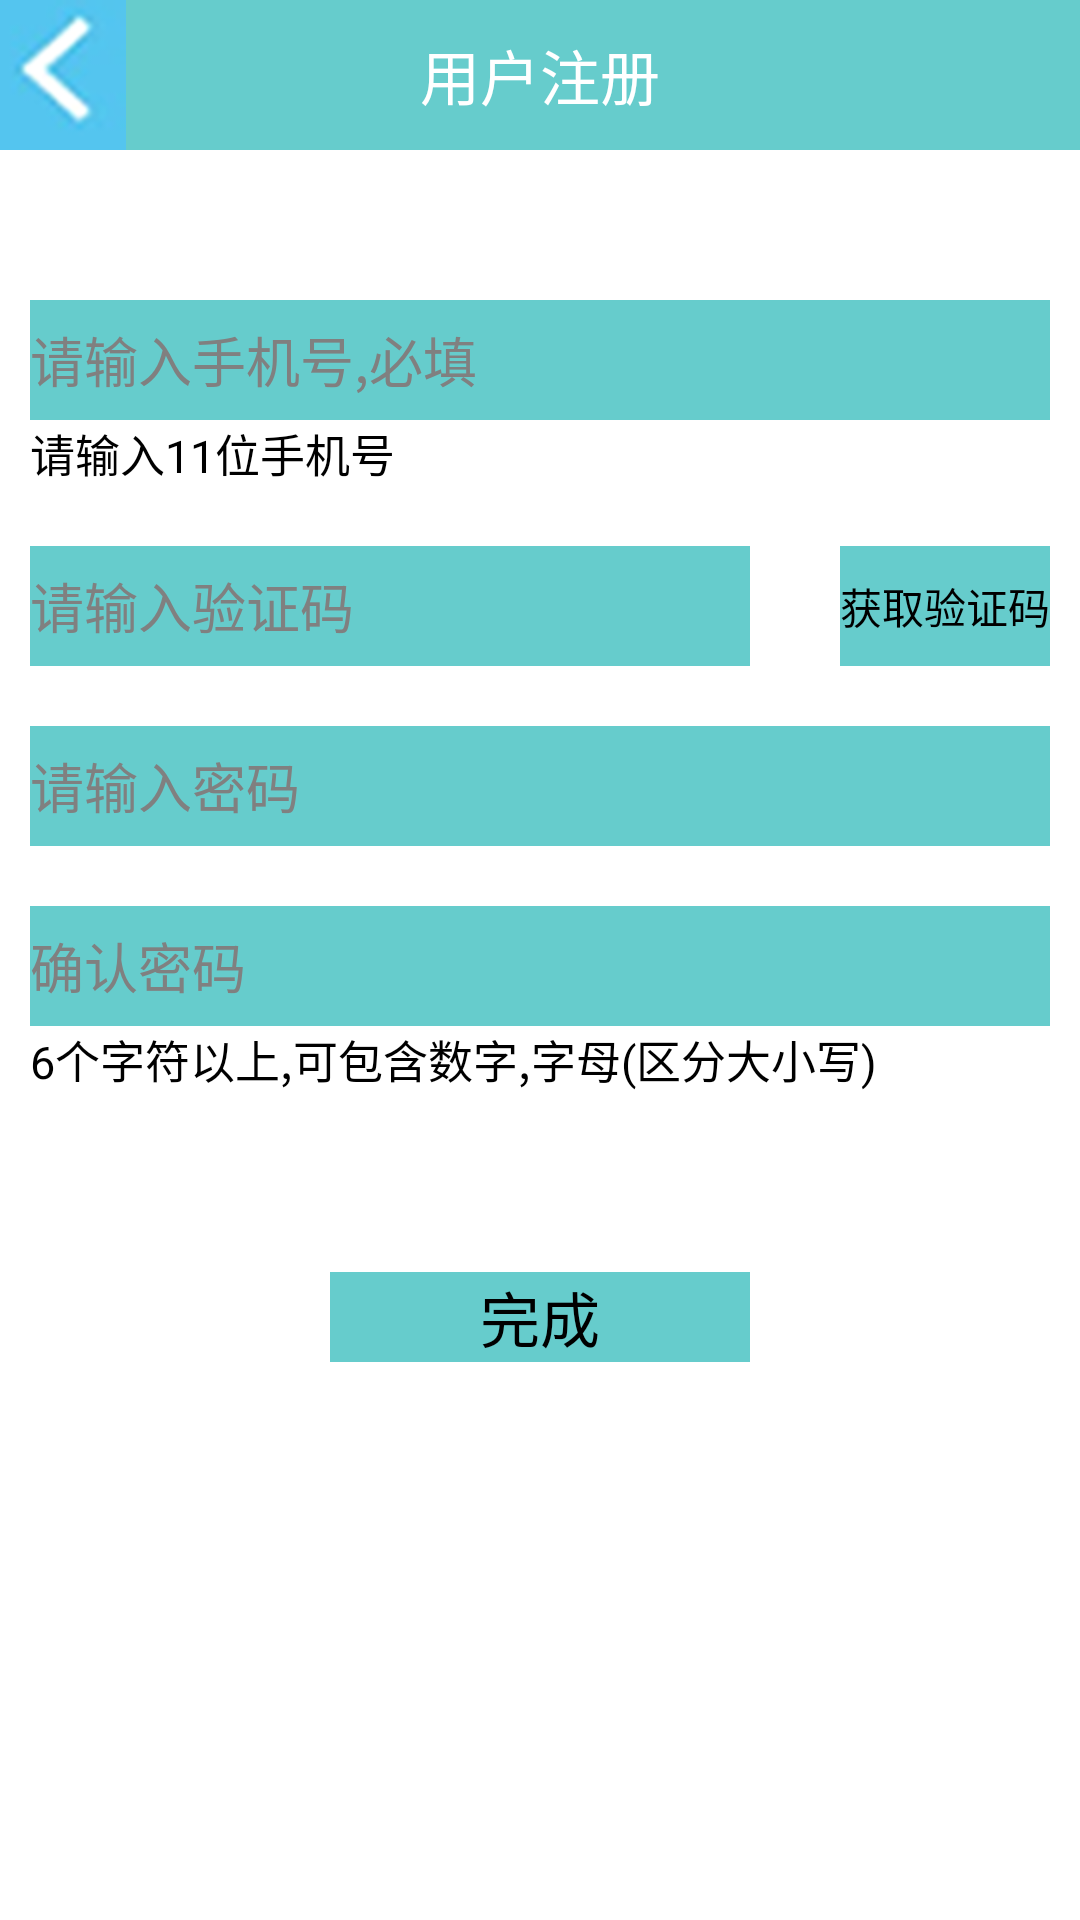

Icons on this 1080 × 1920 Android screen, each with the point to tap as point (x, y):
return left: point (63, 75)
